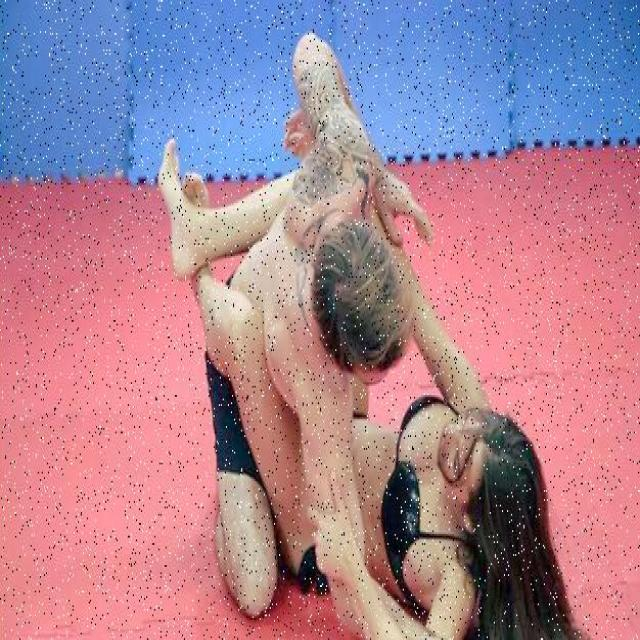fall: (157, 137, 601, 638)
